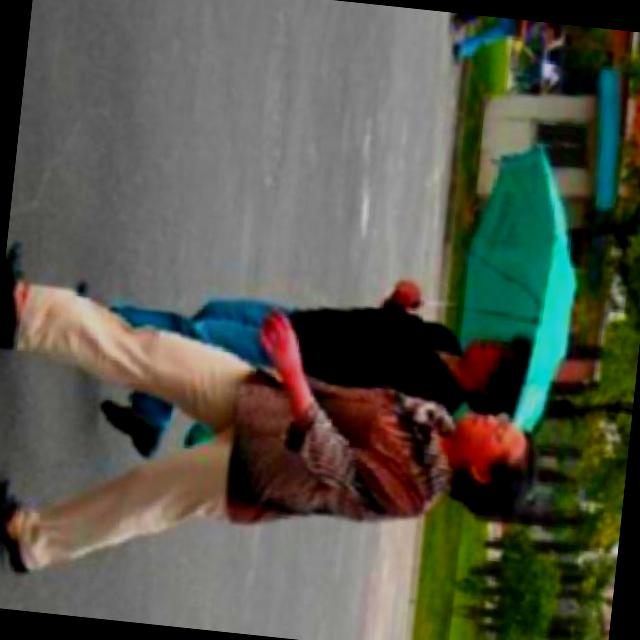Person: (0, 260, 558, 623), (59, 240, 556, 419)
